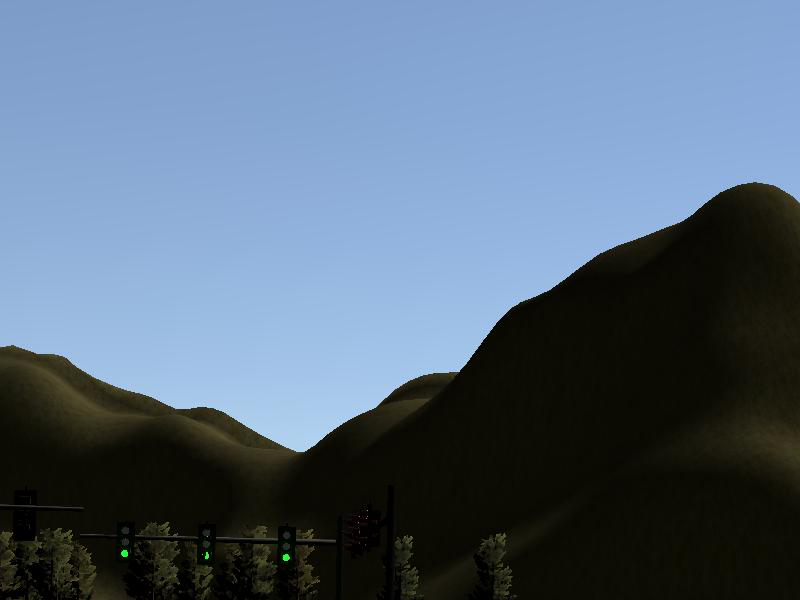green: (198, 524, 217, 566), (277, 525, 295, 566), (117, 521, 135, 560)
